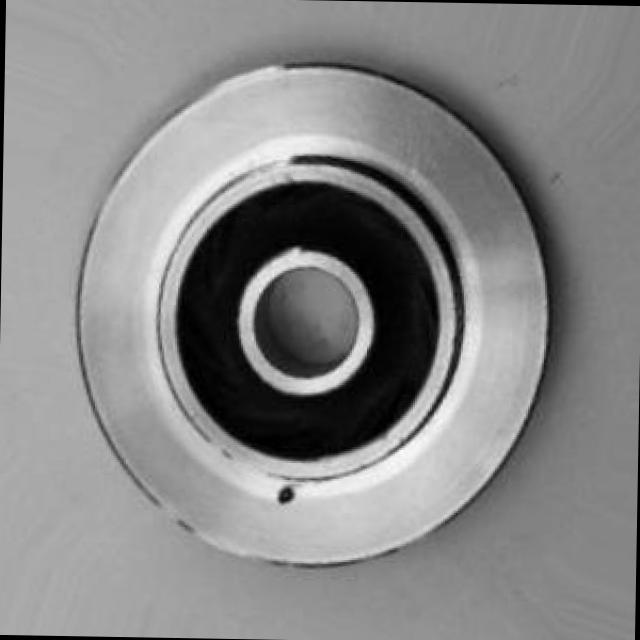Defect: (273, 482, 301, 508)
